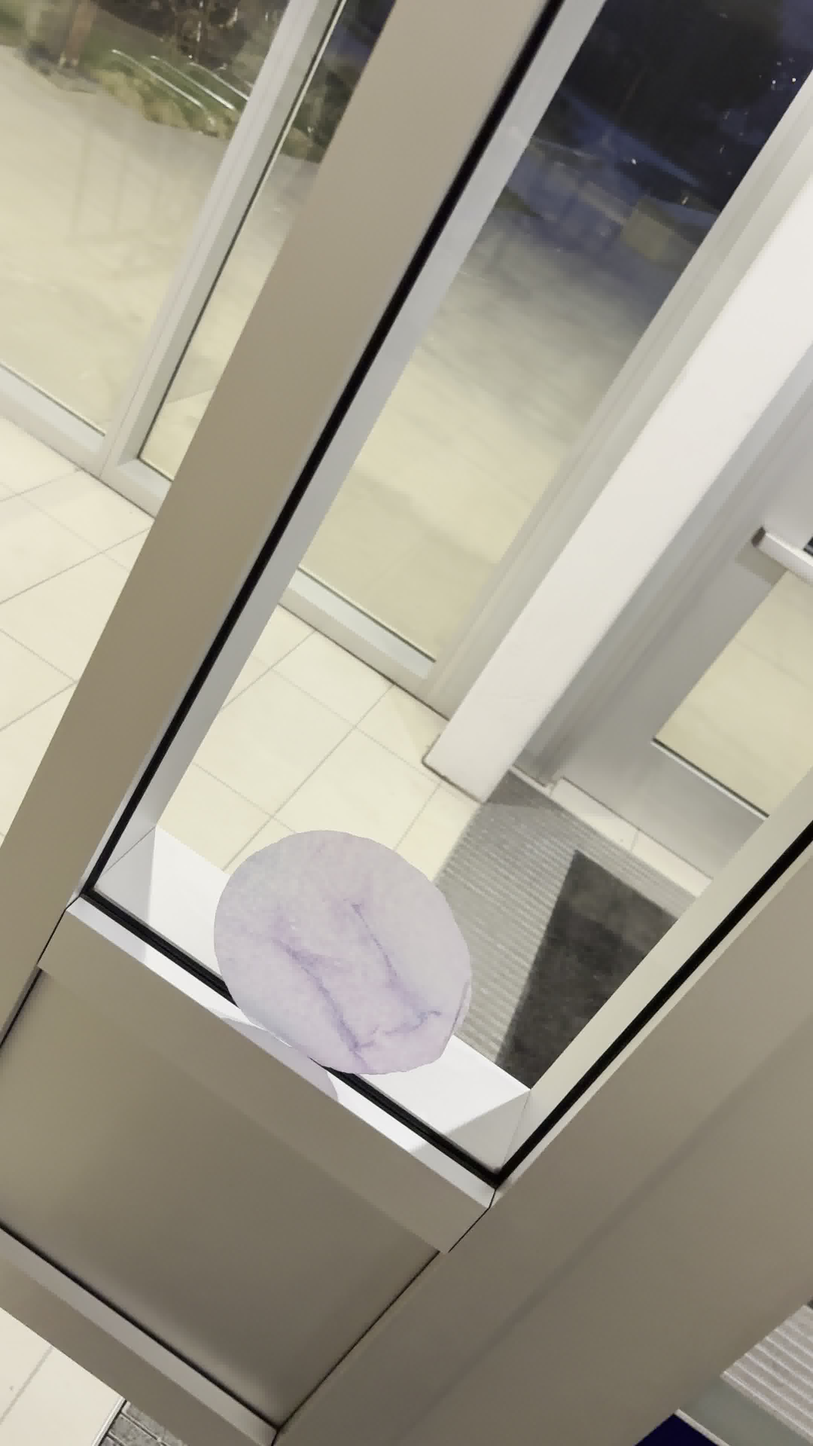Target: (206, 827, 483, 1085)
